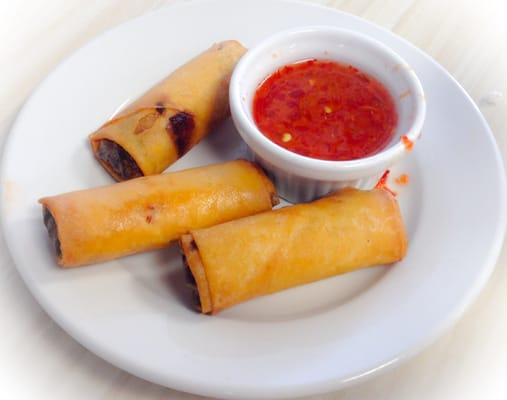pasta: (37, 157, 279, 269), (88, 38, 249, 182)
sushi: (228, 17, 428, 202)
